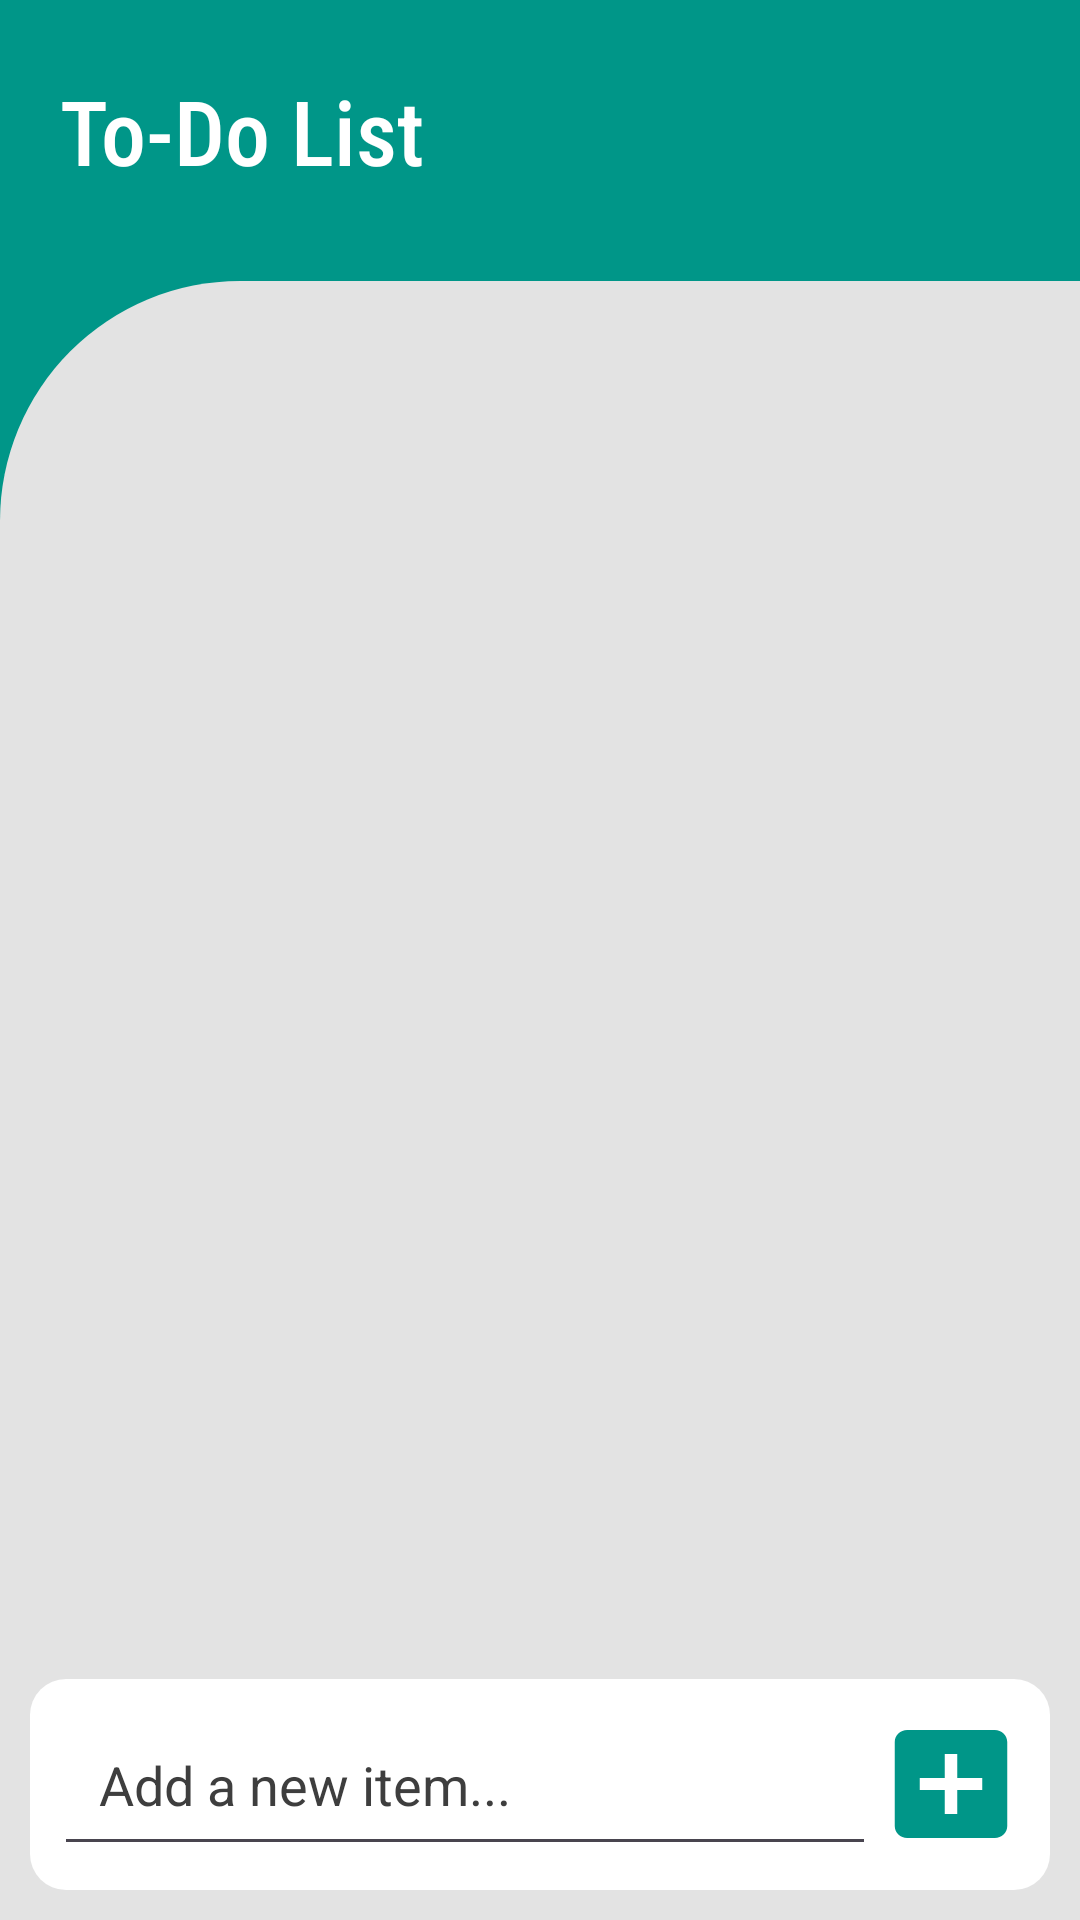

Icon bounding boxes for this 1080×1920 phone screenshot, format BBox(x1, y1, x2, y2):
add box: BBox(894, 1730, 1008, 1838)
